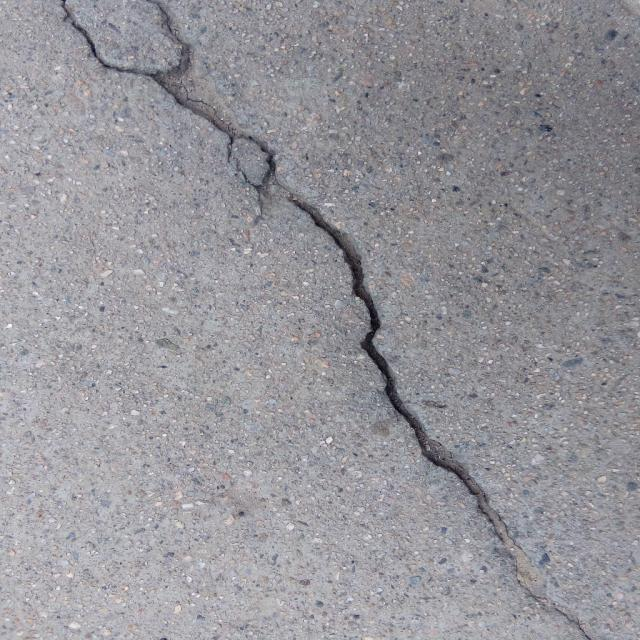cracks: (49, 4, 617, 630)
